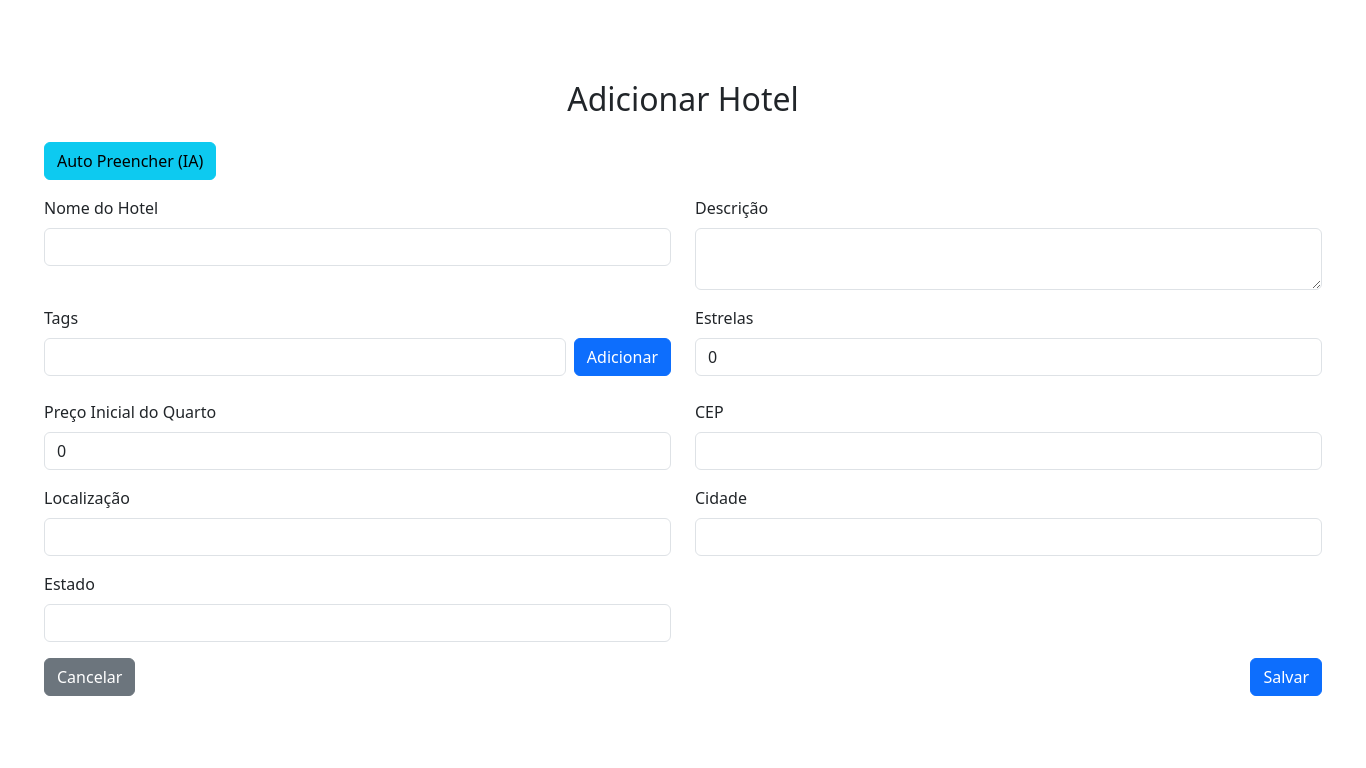
Test: HotelForm component › creates a new hotel
Type "New Hotel" into the field labelled "Nome do Hotel". click: [358, 247]
box: [44,228,671,266]
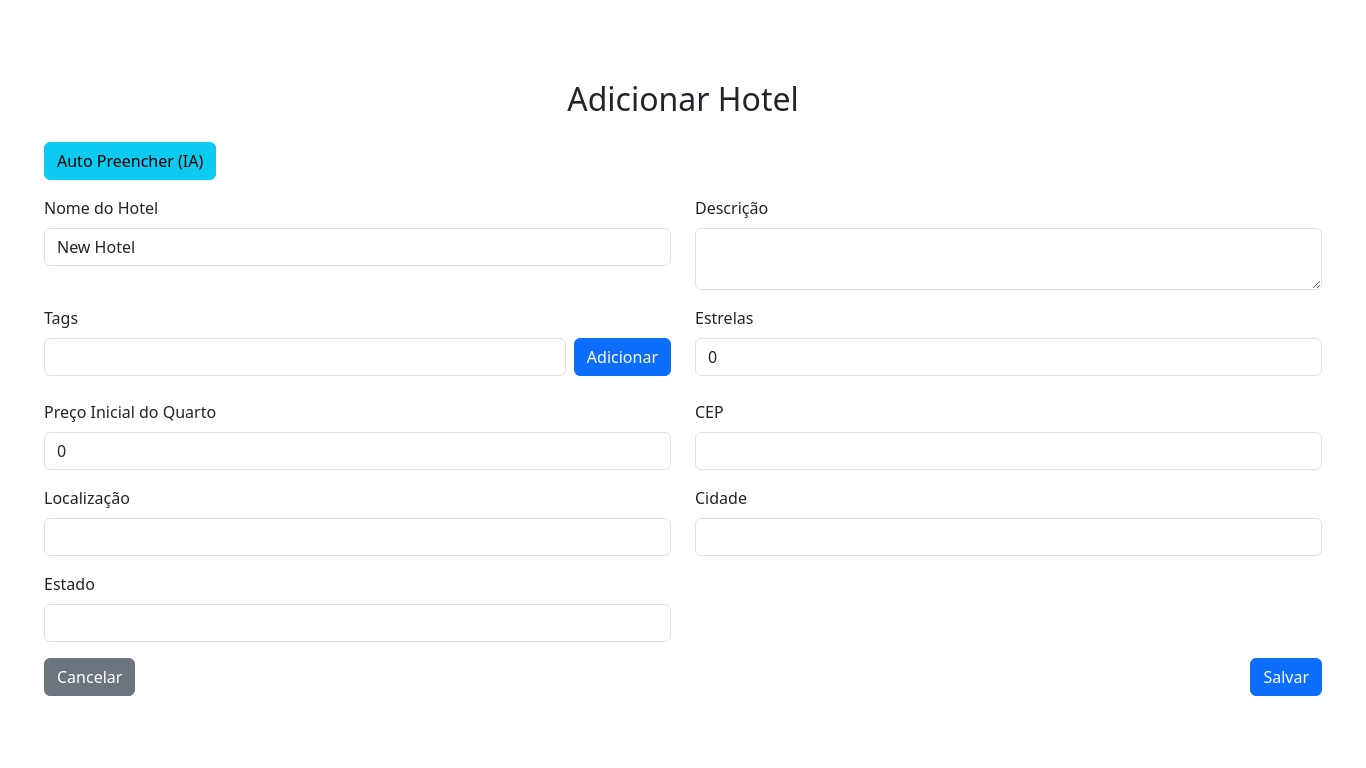
Type "New description" into the text box labelled "Descrição". click: [1008, 259]
box: [695,228,1322,290]
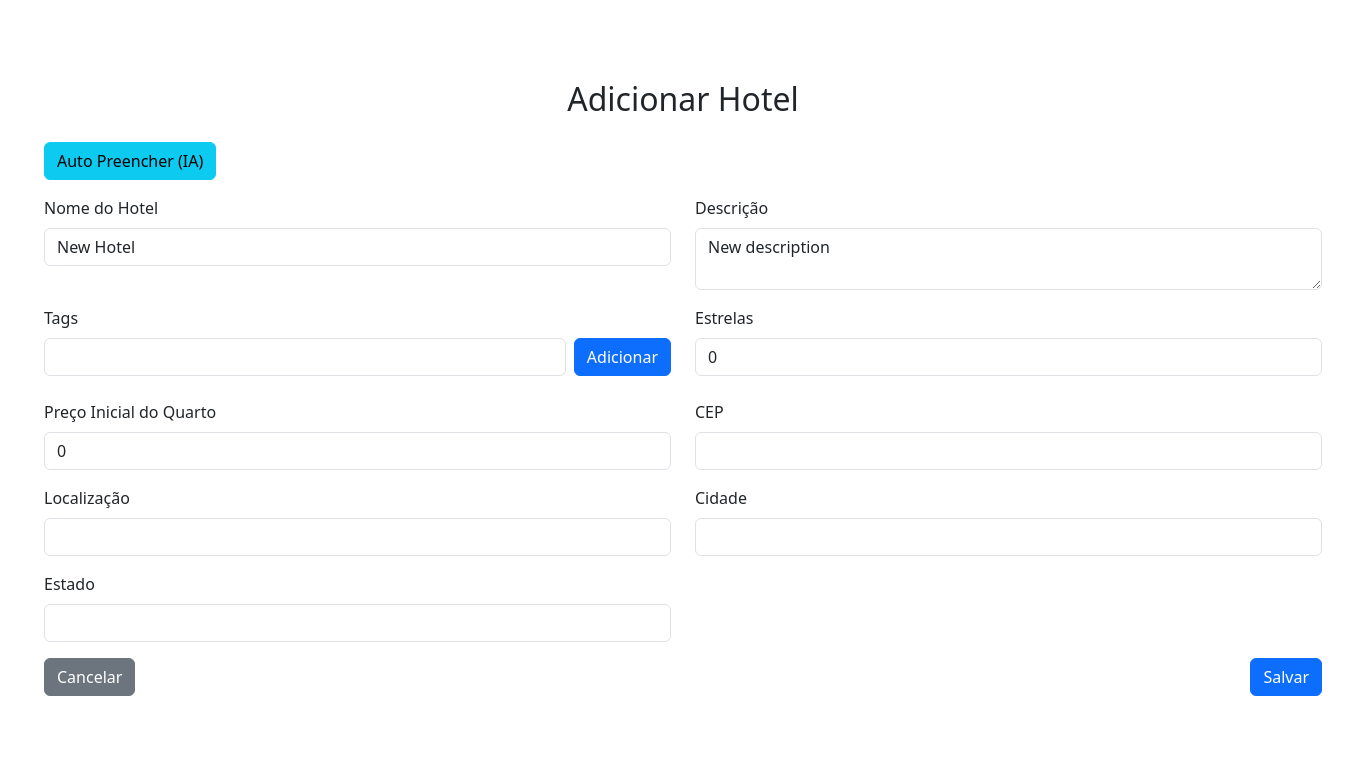
Submit the form from the button "Salvar", box [1250,658,1322,696]
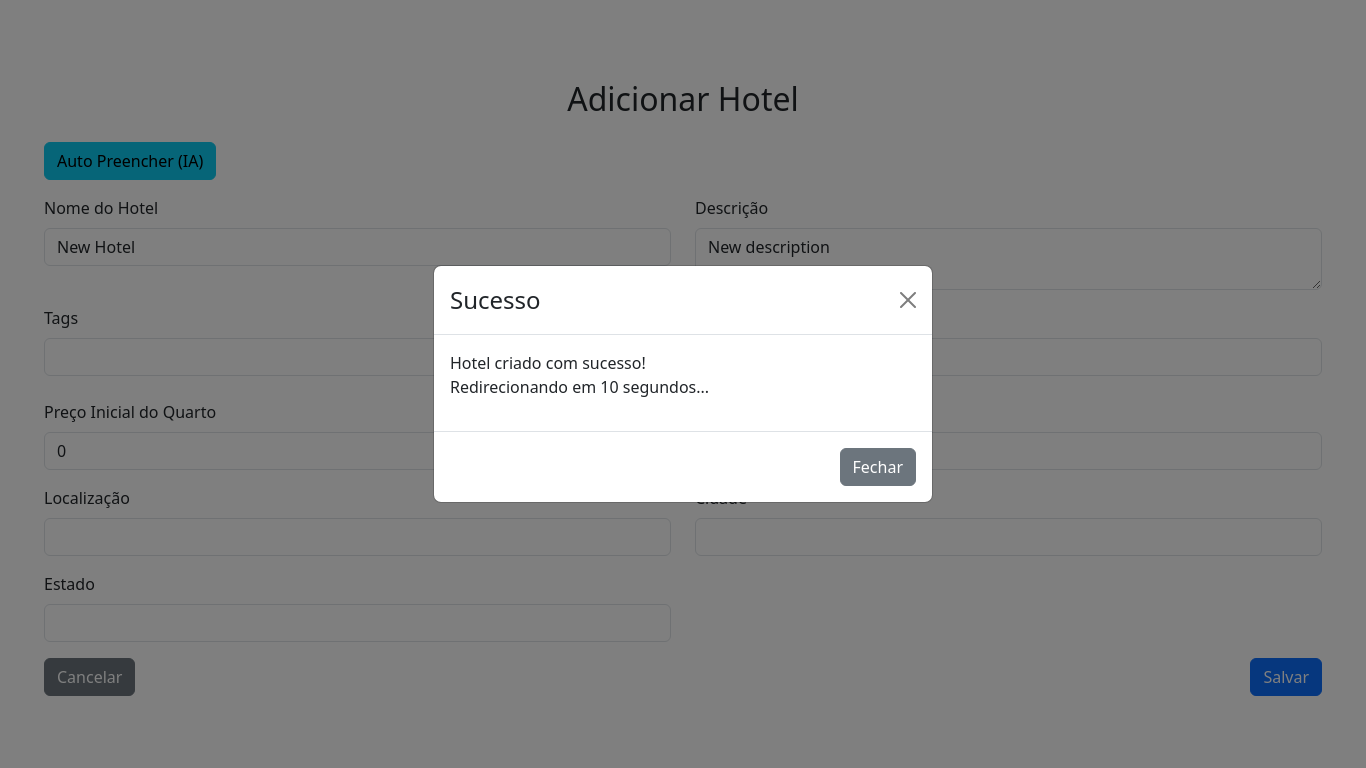
Now the text "Hotel criado com sucesso!" is shown, box [450,352,646,374]
